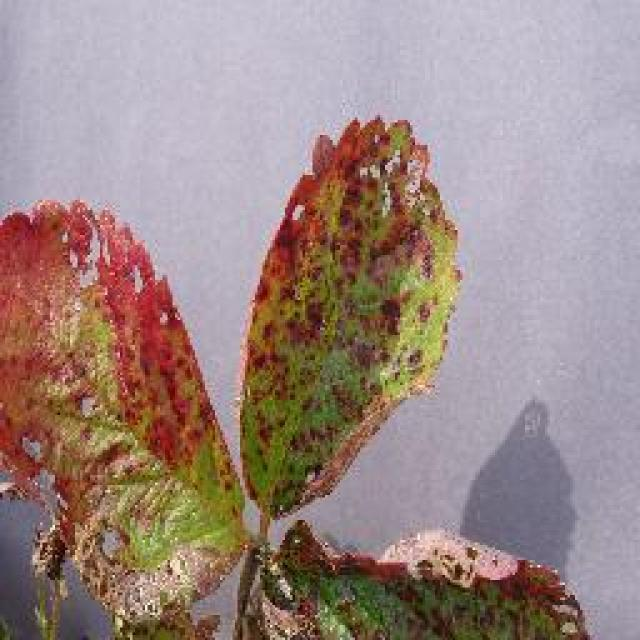Strawberry leaf scorch: (0, 225, 205, 563)
